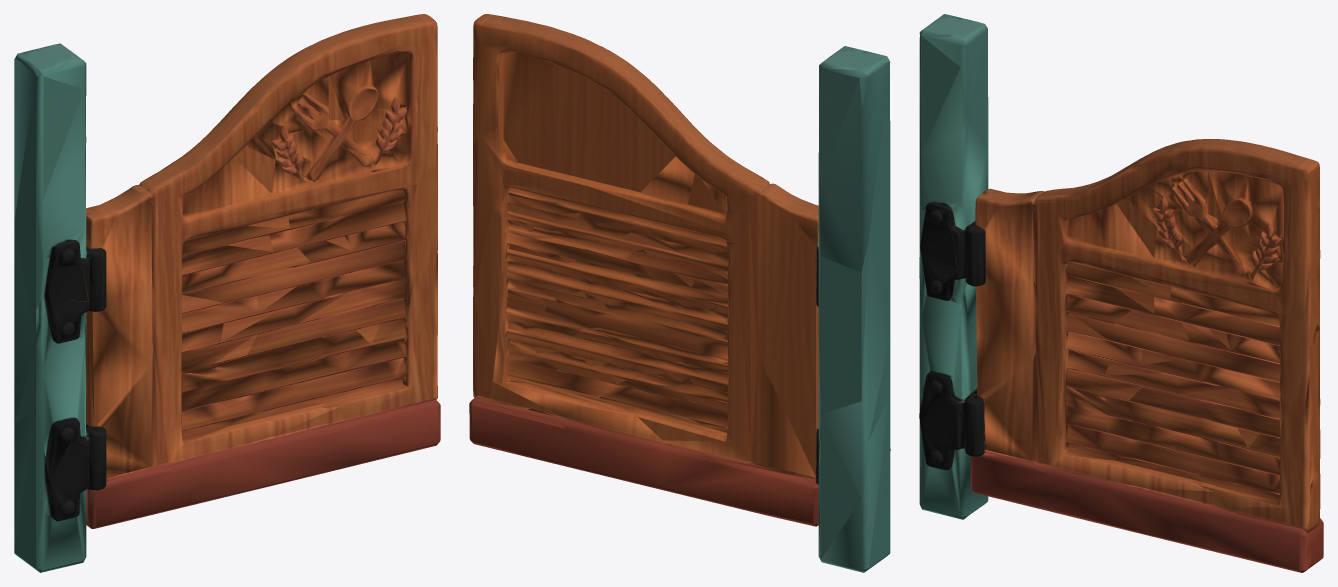
The model's file is Meshy_AI_Restaurant_swinging_d_0904203233_texture.fbx.
3 renders of one model, left to right at view 1: azimuth 30°, elevation 25°; view 2: azimuth 150°, elevation 25°; view 3: azimuth 330°, elevation 25°, orthographic. The views are drawn at different scales.
Parts seen in each view (by area): view 1: mesh_node; view 2: mesh_node; view 3: mesh_node.
Boxes of the visible parts, x1,y1,x2,y2 form: mesh_node: (14, 14, 440, 572); mesh_node: (469, 14, 890, 572); mesh_node: (919, 14, 1323, 572).
Size of the model in its own units: 101 by 120 by 14.45.
1 material, 1 textured.
